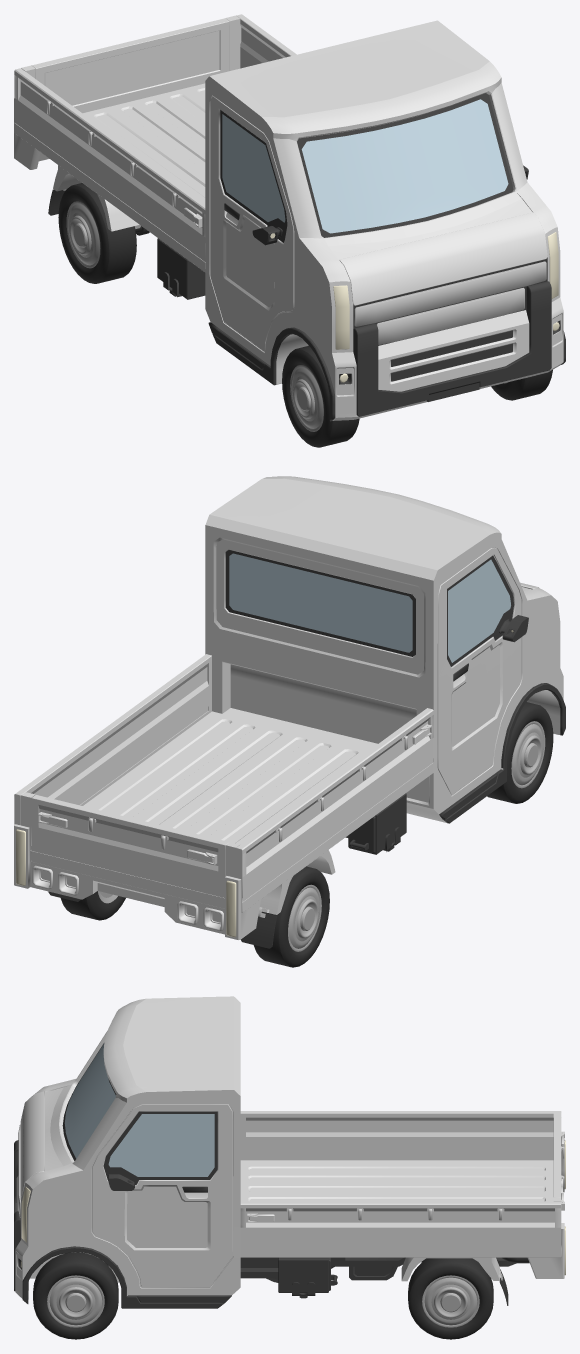
The model's file is keitora.fbx.
The picture shows the model from 3 angles, top to bottom: view 1: azimuth 30°, elevation 25°; view 2: azimuth 150°, elevation 25°; view 3: azimuth 270°, elevation 25°; orthographic projection. The views are drawn at different scales.
Parts seen in each view (by area): view 1: Body, RR, FR, FL; view 2: Body, RR, FR; view 3: Body, FL, RR.
Part boxes in pixels (box(x1,y1,x2,y2)): Body: box(14, 14, 565, 421); RR: box(58, 183, 140, 283); FR: box(282, 346, 359, 447); FL: box(491, 370, 552, 400); Body: box(14, 476, 565, 948); RR: box(60, 866, 329, 967); FR: box(487, 702, 553, 803); Body: box(14, 996, 565, 1308); FL: box(33, 1252, 118, 1339); RR: box(408, 1258, 493, 1339).
Bounding box in the file's own units: 1.96 × 2.16 × 4.3.
